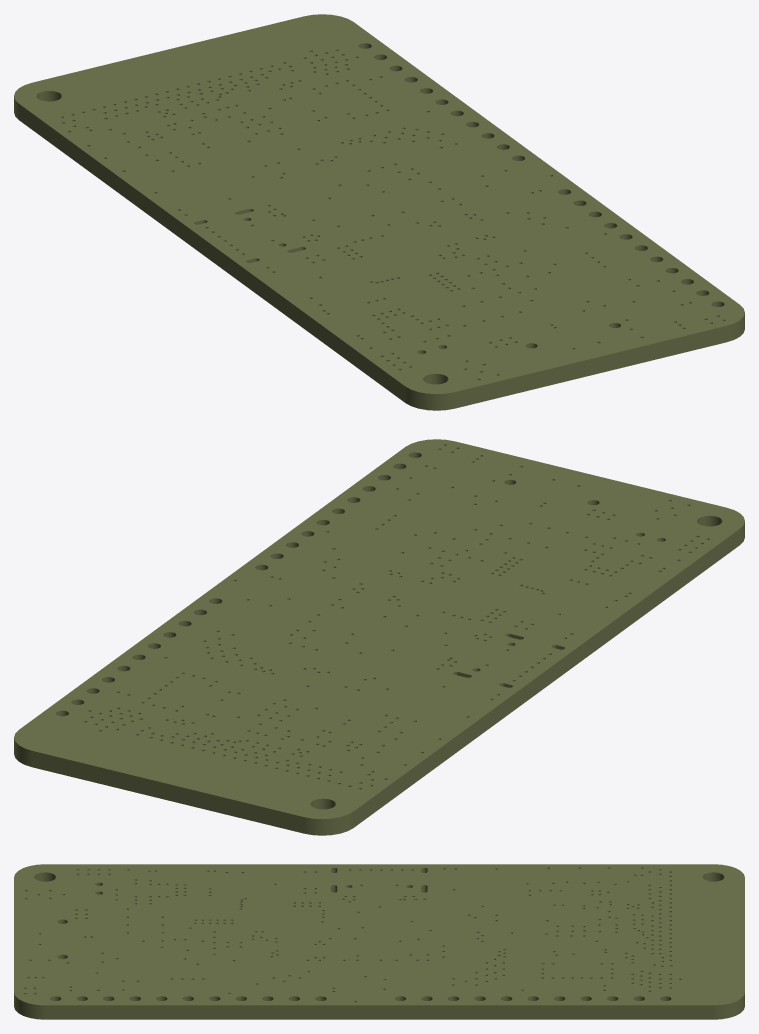
File: board_PCB.obj
3 renders of one model, top to bottom at view 1: azimuth 30°, elevation 25°; view 2: azimuth 150°, elevation 25°; view 3: azimuth 270°, elevation 25°, orthographic. The views are drawn at different scales.
Parts seen in each view (by area): view 1: =>[0:1:1:32]; view 2: =>[0:1:1:32]; view 3: =>[0:1:1:32].
Part boxes in pixels (x1=…): =>[0:1:1:32]: x1=14, y1=14, x2=744, y2=410; =>[0:1:1:32]: x1=14, y1=439, x2=744, y2=835; =>[0:1:1:32]: x1=14, y1=864, x2=744, y2=1019.
Size of the model in its own units: 0.32 by 0.0151 by 0.7.
